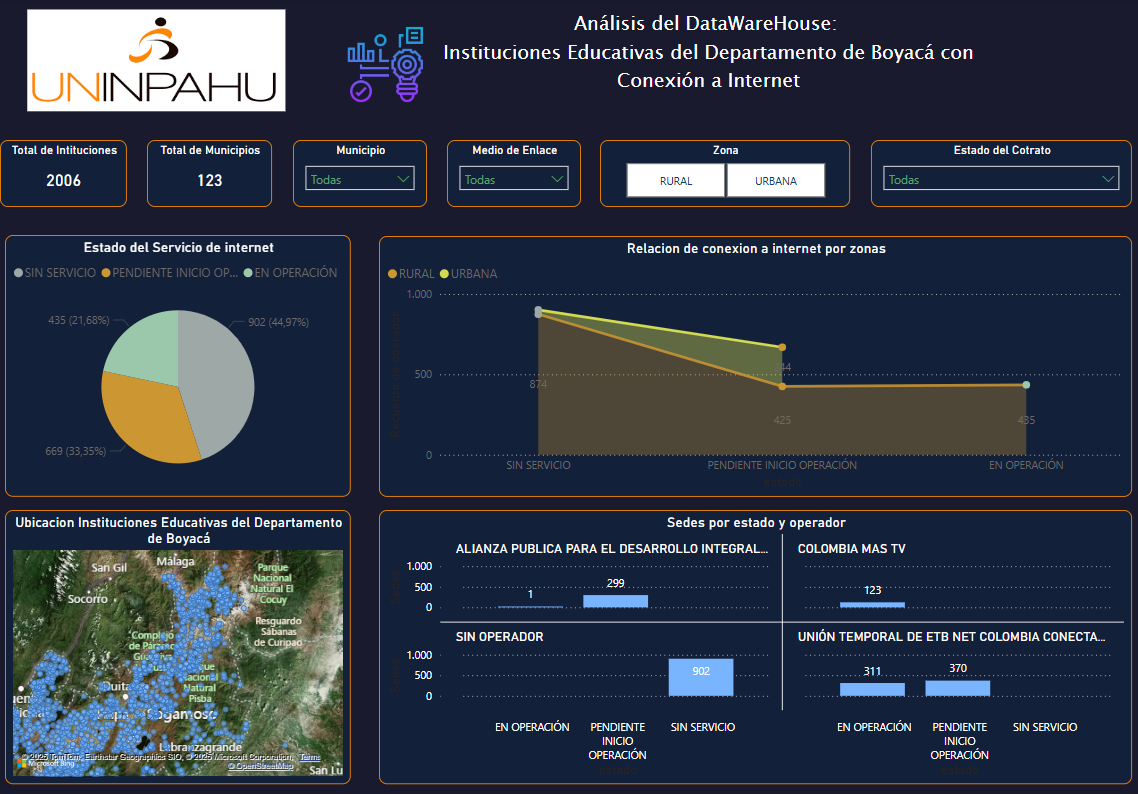

Layout of this report page (visuals, bound fields, positions):
{"tool":"powerbi","page":{"name":"Detalle_Conectividad","canvas":[1280,900],"ordinal":2},"visuals":[{"type":"group","id":"g1","title":"Grupo 1","box":[387.3,7.8,738.8,132.1],"z":0},{"type":"textbox","box":[428.2,7.8,697.9,124.8],"z":0,"group":"g1"},{"type":"image","box":[387.3,8.7,97.4,131.2],"z":1000,"group":"g1"},{"type":"group","id":"g2","title":"Grupo 2","box":[4.5,159,142.2,75],"z":1000},{"type":"card","title":"Total de Intituciones","fields":{"Values":["CountNonNull(fact_conexion_internet.cod_dane_ins_edu)"]},"box":[4.5,159,142.2,75],"z":1000,"group":"g2"},{"type":"map","title":"Ubicacion Instituciones Educativas del Departamento de Boyacá","fields":{"Y":["fact_conexion_internet.latitud"],"X":["fact_conexion_internet.longitud"]},"box":[10.1,573.1,387.3,306.7],"z":2000},{"type":"image","box":[0,7.8,359.3,124.3],"z":3000},{"type":"card","title":"Total de Municipios","fields":{"Values":["CountNonNull(dim_alcaldia.nom_mpio)"]},"box":[169,159,139.9,75],"z":4000},{"type":"slicer","title":"Estado del Cotrato","fields":{"Values":["fact_conexion_internet.estado"]},"box":[979.5,159,292.2,75],"z":5000},{"type":"slicer","title":"Zona","fields":{"Values":["fact_conexion_internet.zona"]},"box":[676.1,159,279.9,75],"z":7000},{"type":"slicer","title":"Medio de Enlace","fields":{"Values":["fact_conexion_internet.medio_enlace"]},"box":[504.9,159,150,75],"z":8000},{"type":"slicer","title":"Municipio","fields":{"Values":["dim_alcaldia.nom_mpio"]},"box":[332.5,159,150,75],"z":9000},{"type":"actionButton","box":[0,0,100,40],"z":10000},{"type":"pieChart","title":"Estado del Servicio de internet","fields":{"Category":["fact_conexion_internet.estado"],"Y":["CountNonNull(fact_conexion_internet.nom_sede_edu)"]},"box":[10.1,265.3,387.3,293.3],"z":10001},{"type":"stackedAreaChart","title":"Relacion de conexion a internet por zonas","fields":{"Series":["fact_conexion_internet.zona"],"Y":["CountNonNull(fact_conexion_internet.operador)"],"Category":["fact_conexion_internet.estado"]},"box":[428.7,266.4,842.9,292.2],"z":10002},{"type":"columnChart","fields":{"Y":["CountNonNull(fact_conexion_internet.nom_sede_edu)"],"Rows":["fact_conexion_internet.operador"],"Category":["fact_conexion_internet.estado"]},"box":[429,573,843,307],"z":10003}]}

Visuals, with their boxes in screenshot pixels (x1, y1, x2, y2), scaled from the page's 1280x900 canvas onto the 1138x794 screenshot:
"Grupo 1" group: 344,7,1001,123
textbox: 381,7,1001,117
image: 344,8,431,123
"Grupo 2" group: 4,140,130,206
"Total de Intituciones" card: 4,140,130,206
"Ubicacion Instituciones Educativas del Departamento de Boyacá" map: 9,506,353,776
image: 0,7,319,117
"Total de Municipios" card: 150,140,275,206
"Estado del Cotrato" slicer: 871,140,1131,206
"Zona" slicer: 601,140,850,206
"Medio de Enlace" slicer: 449,140,582,206
"Municipio" slicer: 296,140,429,206
actionButton: 0,0,89,35
"Estado del Servicio de internet" pieChart: 9,234,353,493
"Relacion de conexion a internet por zonas" stackedAreaChart: 381,235,1131,493
columnChart - CountNonNull(fact_conexion_internet.nom_sede_edu) x fact_conexion_internet.operador: 381,506,1131,776
